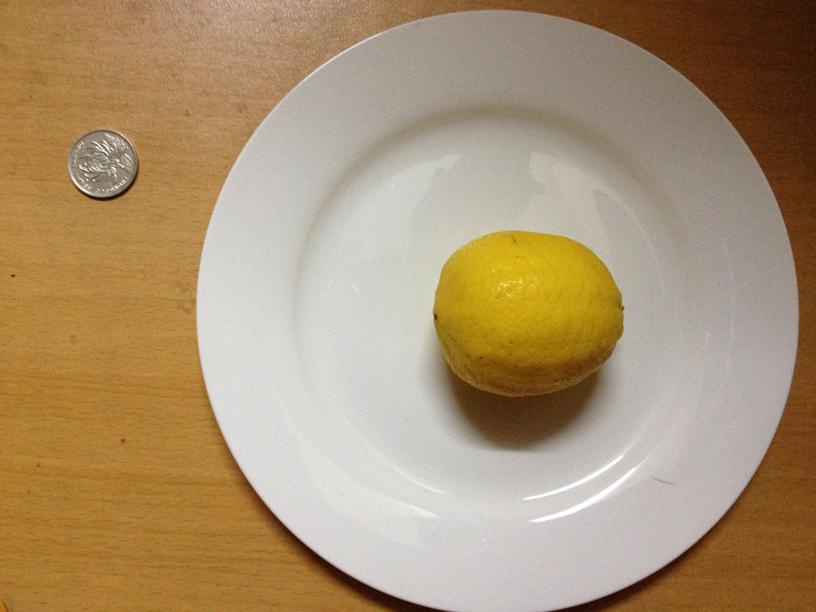coin: (65, 130, 140, 201)
lemon: (434, 230, 623, 398)
